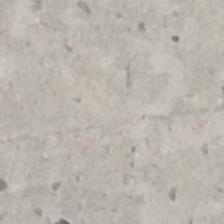Non_Crack: (26, 42, 224, 199)
